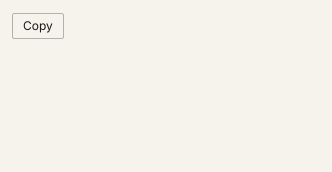
CopyButton › does not throw without a clipboard
Click the button with aria-label "Copy query" at (38, 26), box left=12, top=13, right=64, bottom=39
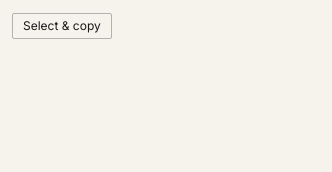
Check: the button with aria-label "Copy query" reads "Select & copy", box left=12, top=13, right=112, bottom=39
